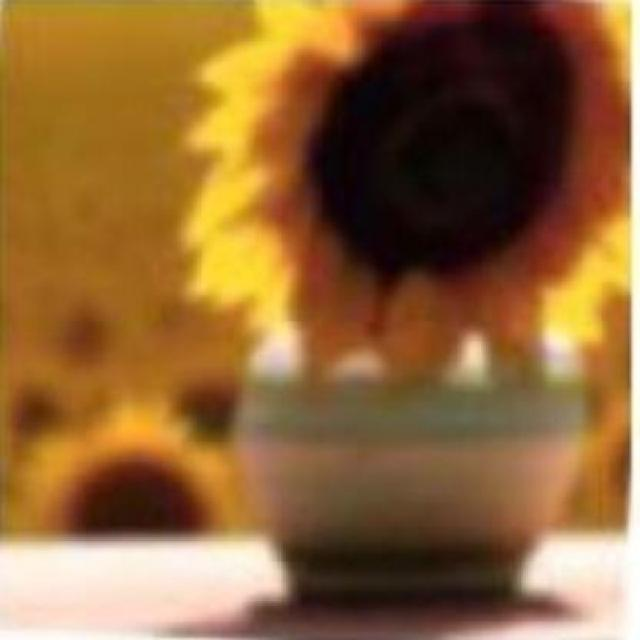sunflower: (186, 0, 626, 386)
